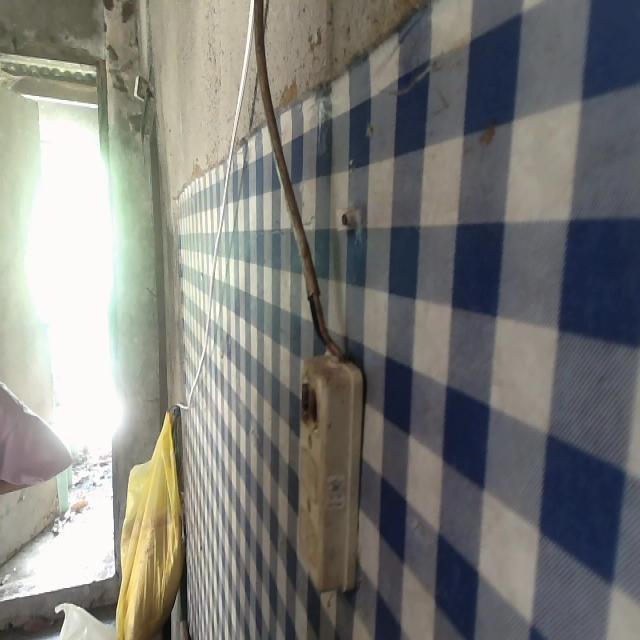-: (295, 373, 330, 428)
